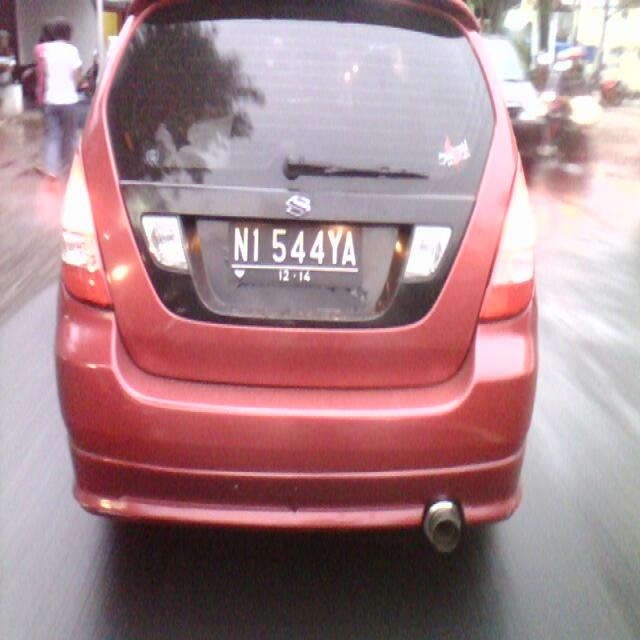plate: (234, 222, 362, 290)
